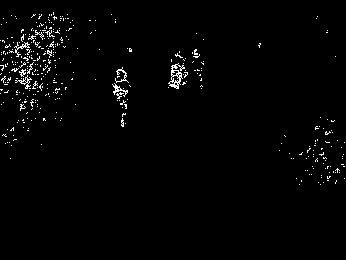person: (112, 66, 133, 131), (192, 47, 209, 91)
